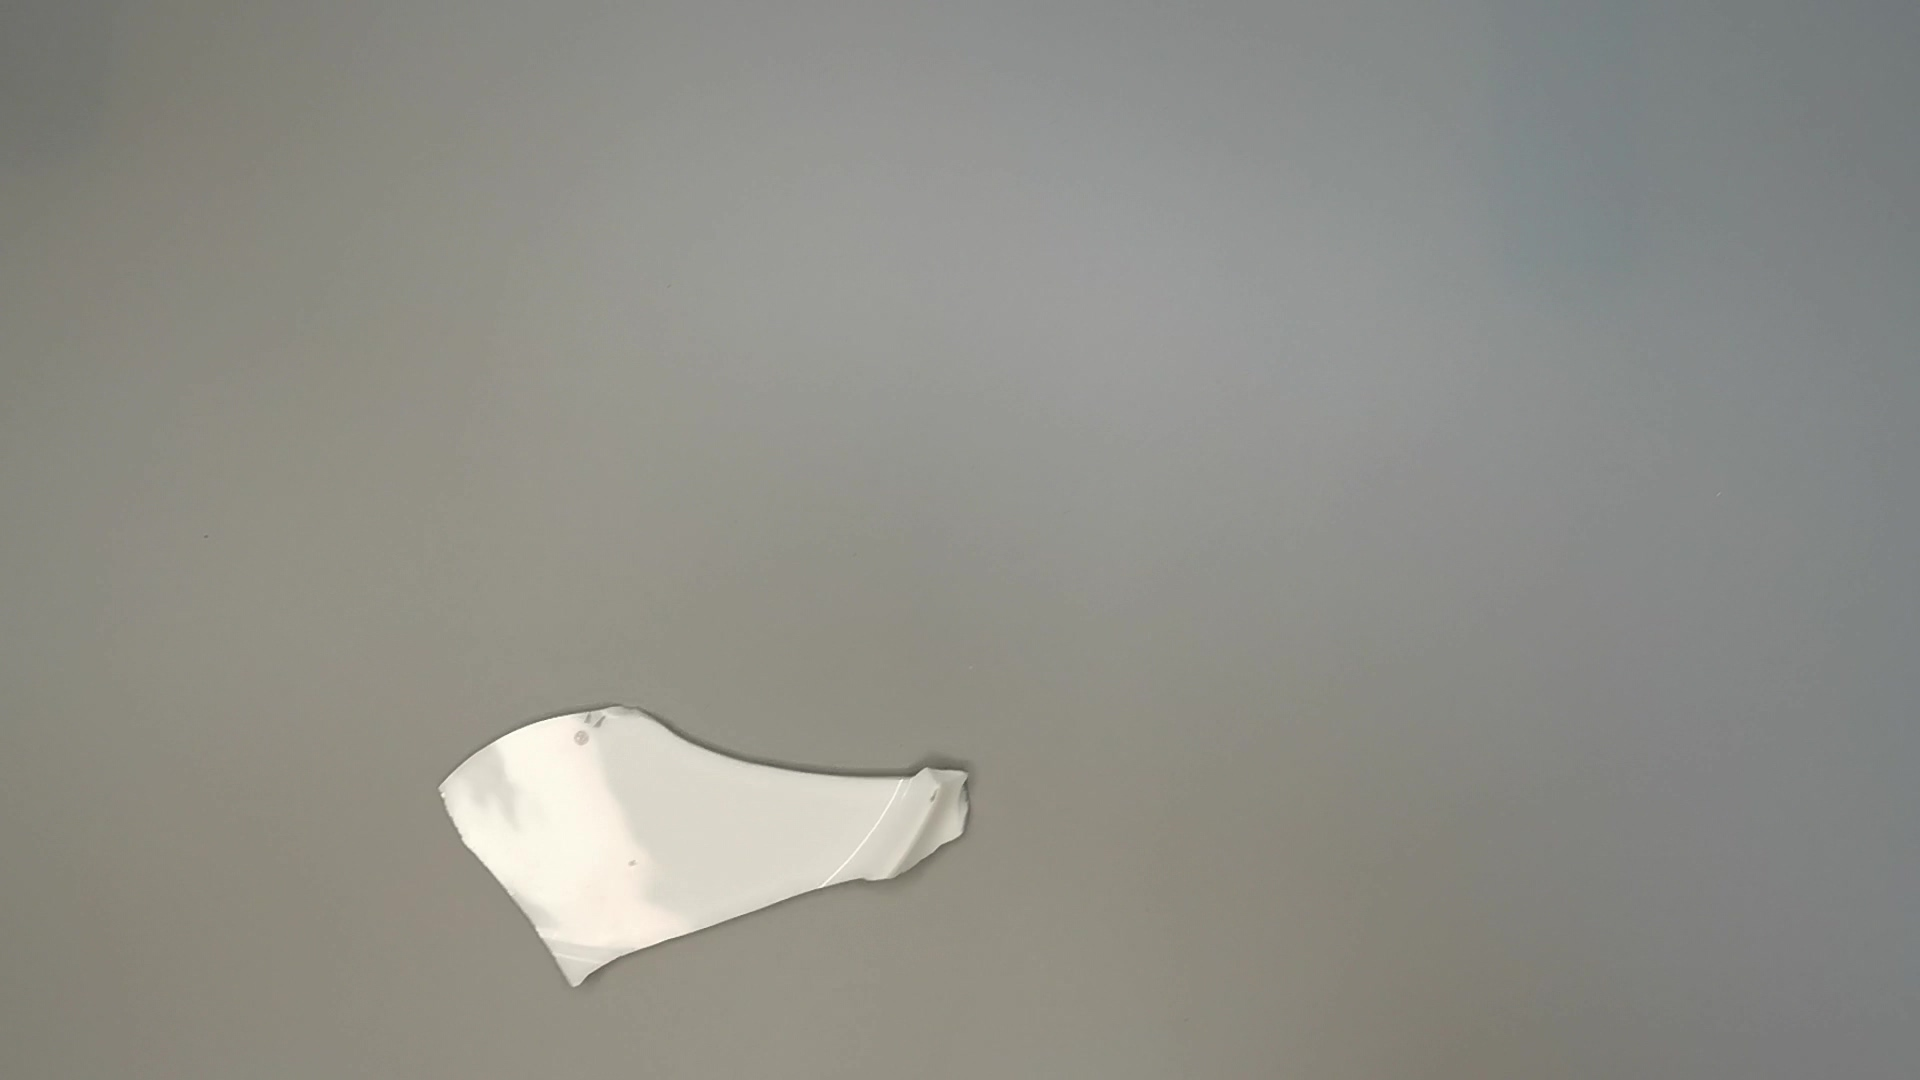ceramic: (429, 694, 978, 993)
